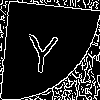Y: (24, 25, 61, 75)
